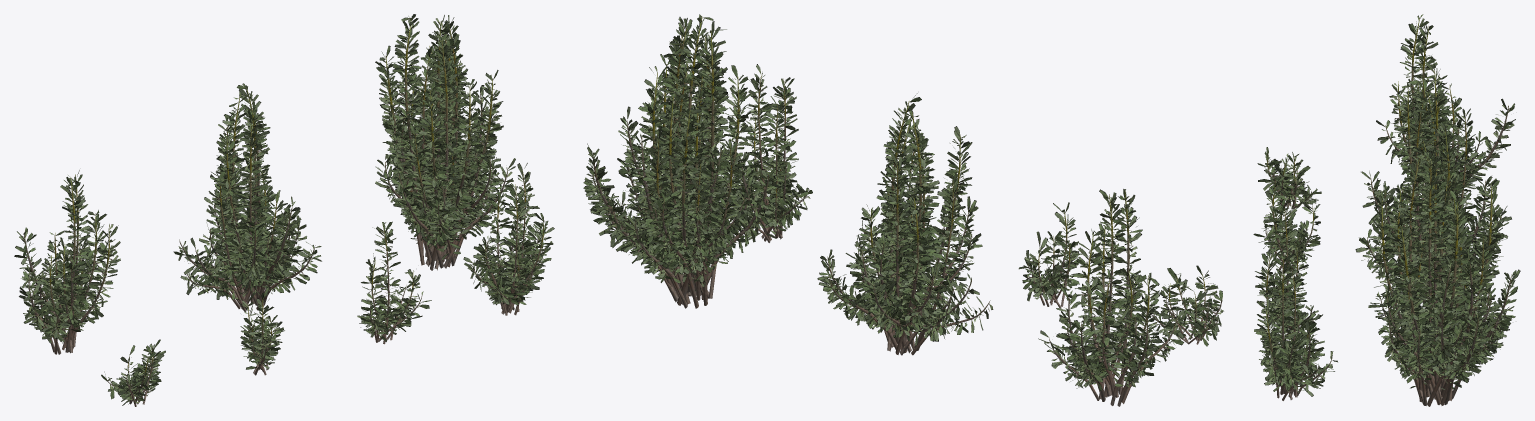
File: othonna-cerarioides.glb
3 views of the same model, side by side, from view 1: azimuth 30°, elevation 25°; view 2: azimuth 150°, elevation 25°; view 3: azimuth 270°, elevation 25° (orthographic). The views are drawn at different scales.
Visible parts, largest first — view 1: othonna_cerarioides; view 2: othonna_cerarioides; view 3: othonna_cerarioides.
Boxes of the visible parts, x1,y1,x2,y2 form: othonna_cerarioides: (14, 14, 554, 406); othonna_cerarioides: (583, 14, 1223, 406); othonna_cerarioides: (1253, 14, 1520, 406).
Size of the model in its own units: 3.97 by 1.97 by 1.8.
2 materials, 2 textured.
